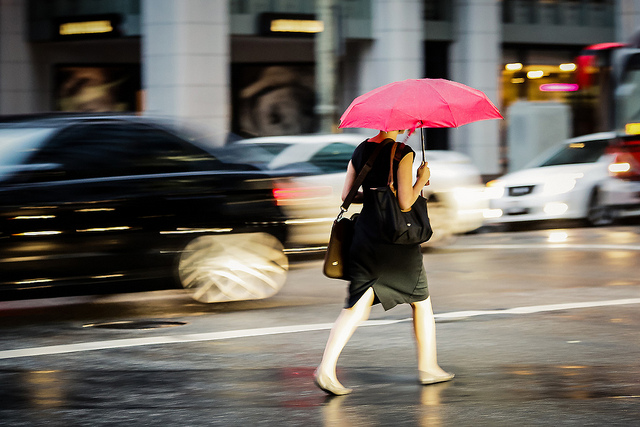Car: (1, 109, 300, 304), (491, 133, 640, 217)
Person: (339, 118, 452, 411)
